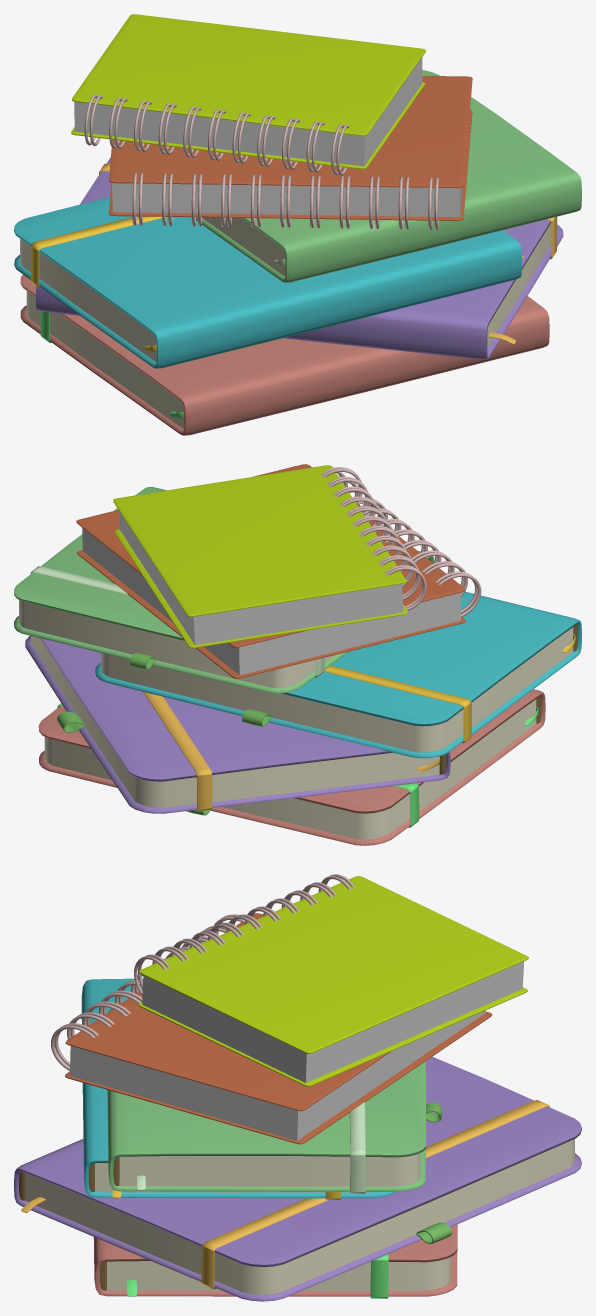
Rendered from 책쌓아논거.fbx.
The picture shows the model from 3 angles, top to bottom: view 1: azimuth 30°, elevation 25°; view 2: azimuth 150°, elevation 25°; view 3: azimuth 270°, elevation 25°; orthographic projection. The views are drawn at different scales.
Visible parts, largest first — view 1: leather_notebook.005, notebook_with_springs.001, notebook_with_springs.003, leather_notebook.007, leather_notebook.006, leather_notebook.008; view 2: notebook_with_springs.001, leather_notebook.005, leather_notebook.008, leather_notebook.007, notebook_with_springs.003, leather_notebook.006; view 3: notebook_with_springs.001, leather_notebook.008, notebook_with_springs.003, leather_notebook.006, leather_notebook.007, leather_notebook.005.
Part boxes in pixels (box(x1,y1,x2,y2)): leather_notebook.005: box(14, 197, 524, 368); notebook_with_springs.001: box(71, 14, 425, 175); notebook_with_springs.003: box(109, 76, 472, 229); leather_notebook.007: box(20, 274, 549, 435); leather_notebook.006: box(196, 70, 581, 282); leather_notebook.008: box(36, 157, 563, 359); notebook_with_springs.001: box(113, 465, 426, 648); leather_notebook.005: box(95, 591, 581, 758); leather_notebook.008: box(25, 635, 450, 813); leather_notebook.007: box(38, 689, 545, 845); notebook_with_springs.003: box(76, 464, 481, 678); leather_notebook.006: box(14, 487, 434, 693); notebook_with_springs.001: box(134, 874, 528, 1086); leather_notebook.008: box(14, 1056, 581, 1301); notebook_with_springs.003: box(51, 913, 492, 1144); leather_notebook.006: box(107, 1008, 442, 1193); leather_notebook.007: box(93, 1224, 457, 1298); leather_notebook.005: box(81, 978, 395, 1199).
Bounding box in the file's own units: 2737 × 1329 × 2674.
